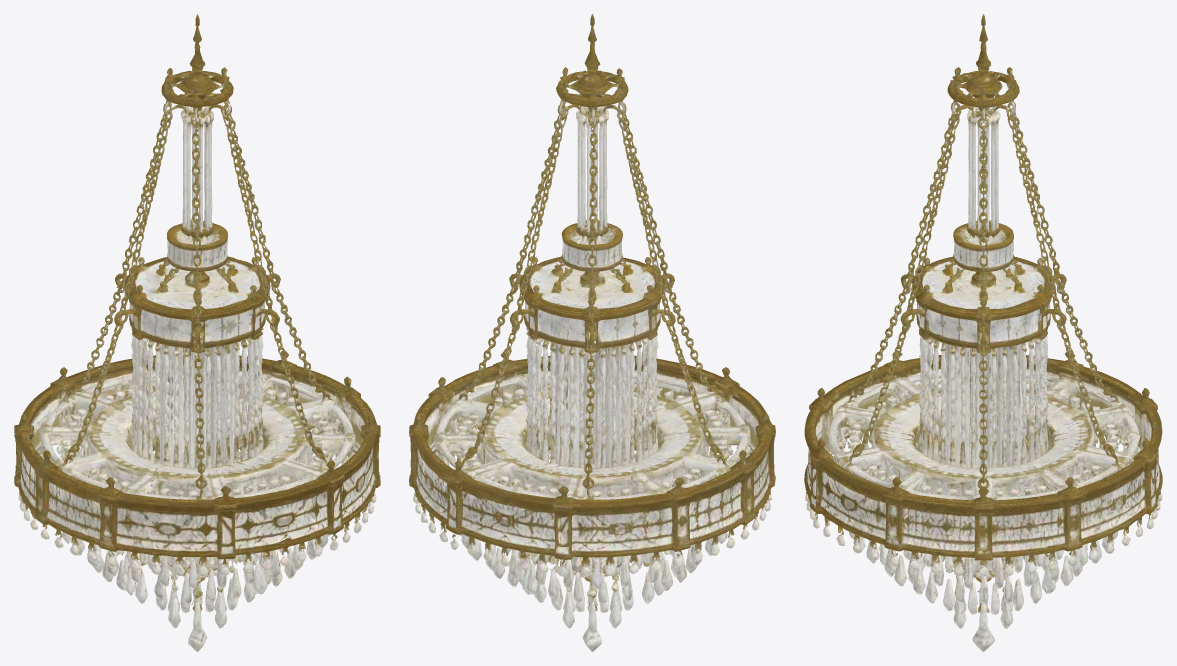
The picture shows the model from 3 angles, left to right: view 1: azimuth 30°, elevation 25°; view 2: azimuth 150°, elevation 25°; view 3: azimuth 270°, elevation 25°; orthographic projection.
Parts seen in each view (by area): view 1: Mesh_0; view 2: Mesh_0; view 3: Mesh_0.
Boxes of the visible parts, x1,y1,x2,y2 form: Mesh_0: (14,14,380,651); Mesh_0: (409,14,775,651); Mesh_0: (804,14,1162,651).
Bounding box in the file's own units: 0.9918 × 1.9 × 0.9664.
1 material, 1 textured.
